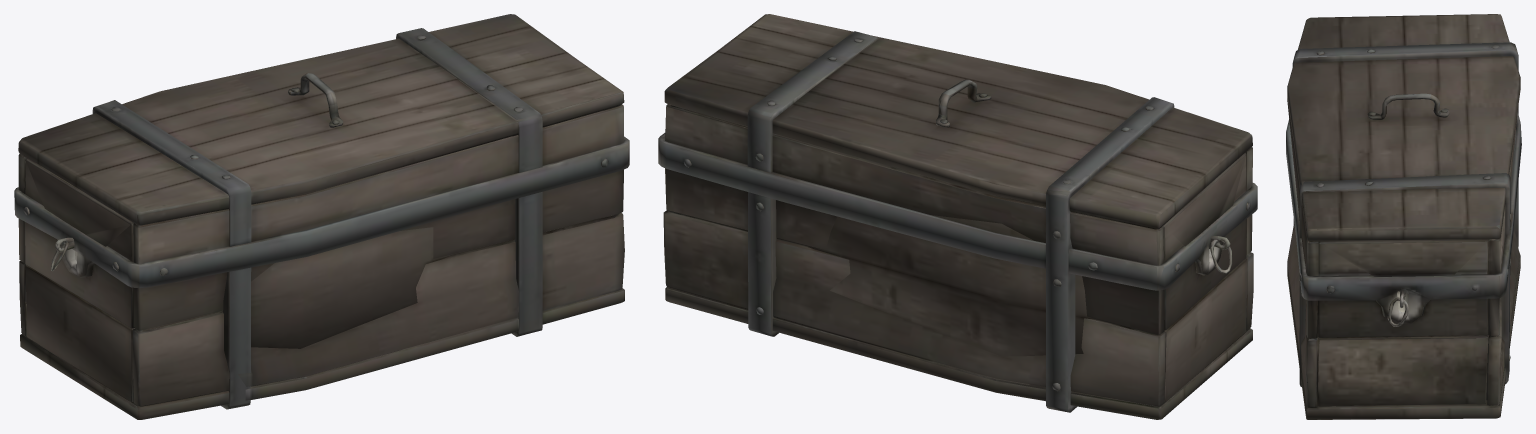
File: coffin.glb
3 views of the same model, side by side, from view 1: azimuth 30°, elevation 25°; view 2: azimuth 150°, elevation 25°; view 3: azimuth 270°, elevation 25° (orthographic). The views are drawn at different scales.
Parts seen in each view (by area): view 1: model; view 2: model; view 3: model.
Part boxes in pixels (left/top/right/bottom): model: left=14, top=14, right=629, bottom=419; model: left=658, top=14, right=1257, bottom=419; model: left=1286, top=14, right=1521, bottom=419.
Size of the model in its own units: 2.31 by 1 by 0.9548.
1 material, 1 textured.
